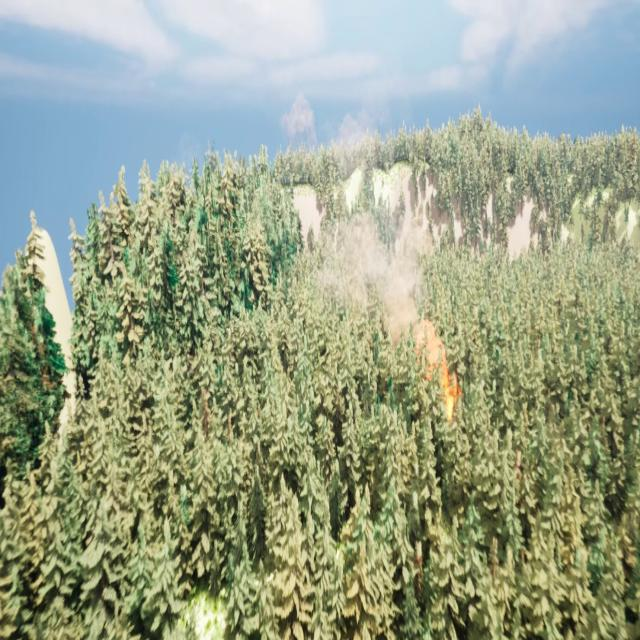fire: (438, 342, 454, 418)
smoke: (323, 174, 439, 358)
